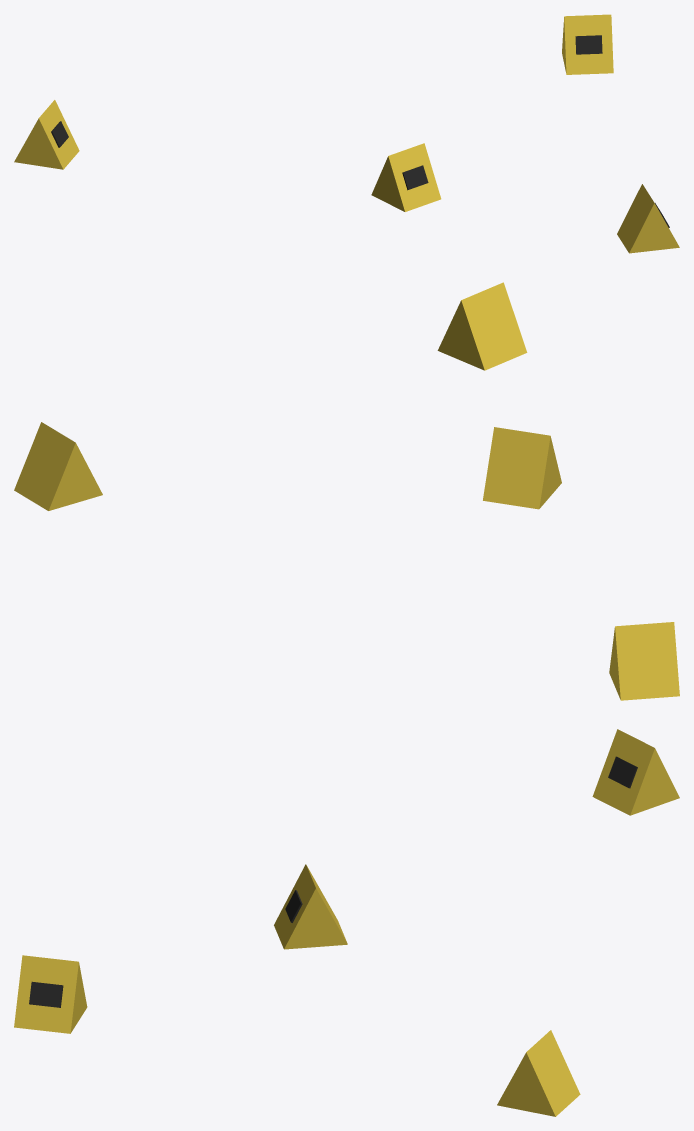
File: SM_Evidence_Markers.fbx
3 renders of one model, top to bottom at view 1: azimuth 30°, elevation 25°; view 2: azimuth 150°, elevation 25°; view 3: azimuth 270°, elevation 25°, orthographic. The views are drawn at different scales.
Parts seen in each view (by area): view 1: SM_Evidence_Markers_1; view 2: SM_Evidence_Markers_1; view 3: SM_Evidence_Markers_1.
Boxes of the visible parts, x1=… form: SM_Evidence_Markers_1: x1=14, y1=14, x2=679, y2=253; SM_Evidence_Markers_1: x1=14, y1=282, x2=679, y2=700; SM_Evidence_Markers_1: x1=14, y1=729, x2=679, y2=1116.
Size of the model in its own units: 123 by 10 by 102.
